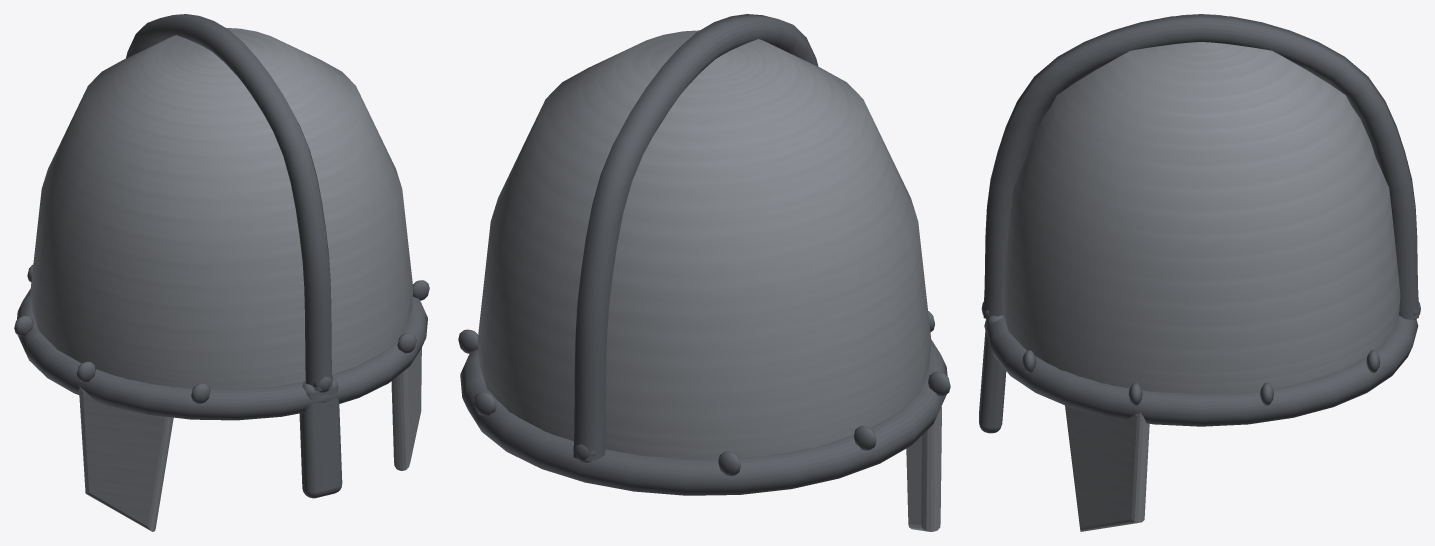
The model's file is helmet_plate.glb.
The picture shows the model from 3 angles, left to right: view 1: azimuth 30°, elevation 25°; view 2: azimuth 150°, elevation 25°; view 3: azimuth 270°, elevation 25°; orthographic projection. The views are drawn at different scales.
Parts seen in each view (by area): view 1: helmet; view 2: helmet; view 3: helmet.
Boxes of the visible parts, bbox=[...] form: helmet: bbox=[14, 14, 429, 531]; helmet: bbox=[458, 14, 950, 531]; helmet: bbox=[979, 14, 1420, 531].
Size of the model in its own units: 0.298 by 0.3411 by 0.3034.
Materials: 2 (2 with a texture image).
